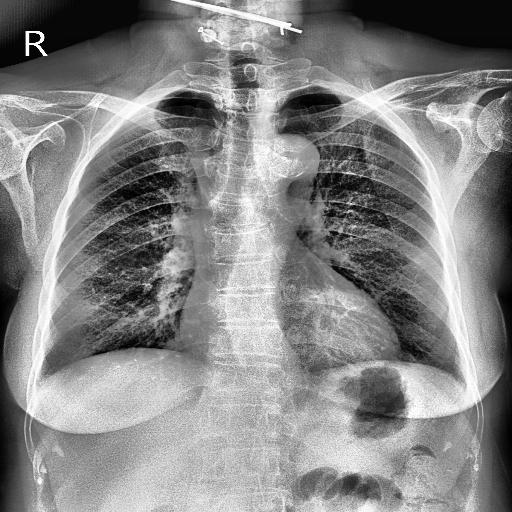0- Aortic enlargement: (260, 136, 321, 206), (254, 136, 318, 185), (268, 134, 322, 176)
3- Cardiomegaly: (175, 310, 399, 374)
